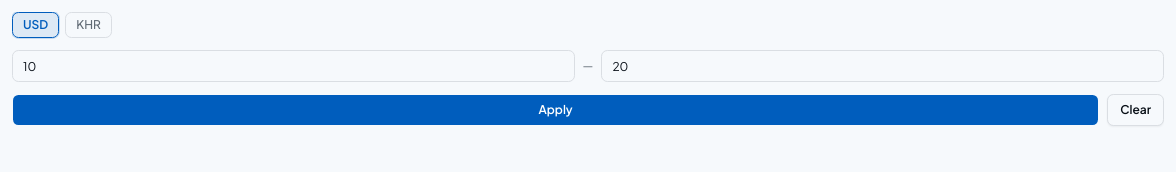
Scenario: <PriceRangeFilter /> › Clear removes both prices and the currency
The width and height of the screenshot is (1176, 172).
Click the button "Clear" at (1136,110), box [1107,94,1164,126]
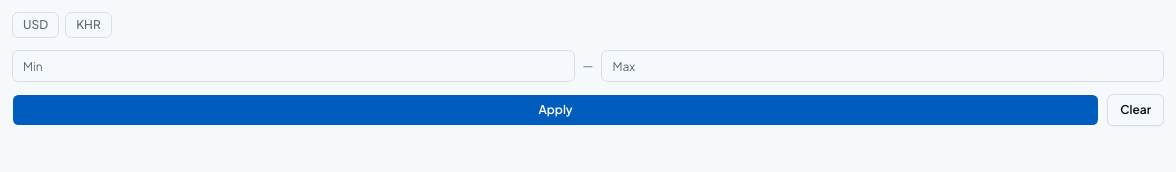
Result: the number field named "Minimum price" is not empty at [12,50,575,82]
